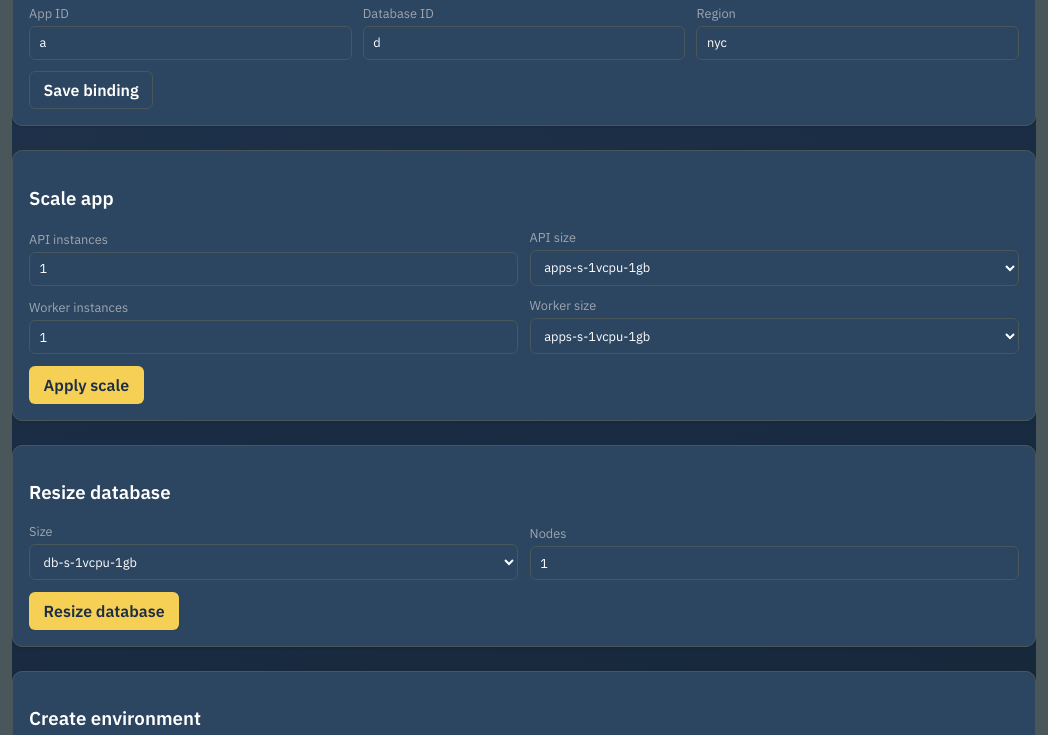
DigitalOceanCloudSection › shows mutation errors from scale
This screenshot has width=1048, height=735.
(page scrolled)
Step 1. Click the button with test id "do-scale-save" → click(86, 385), box [29,366,144,404]
(page scrolled)
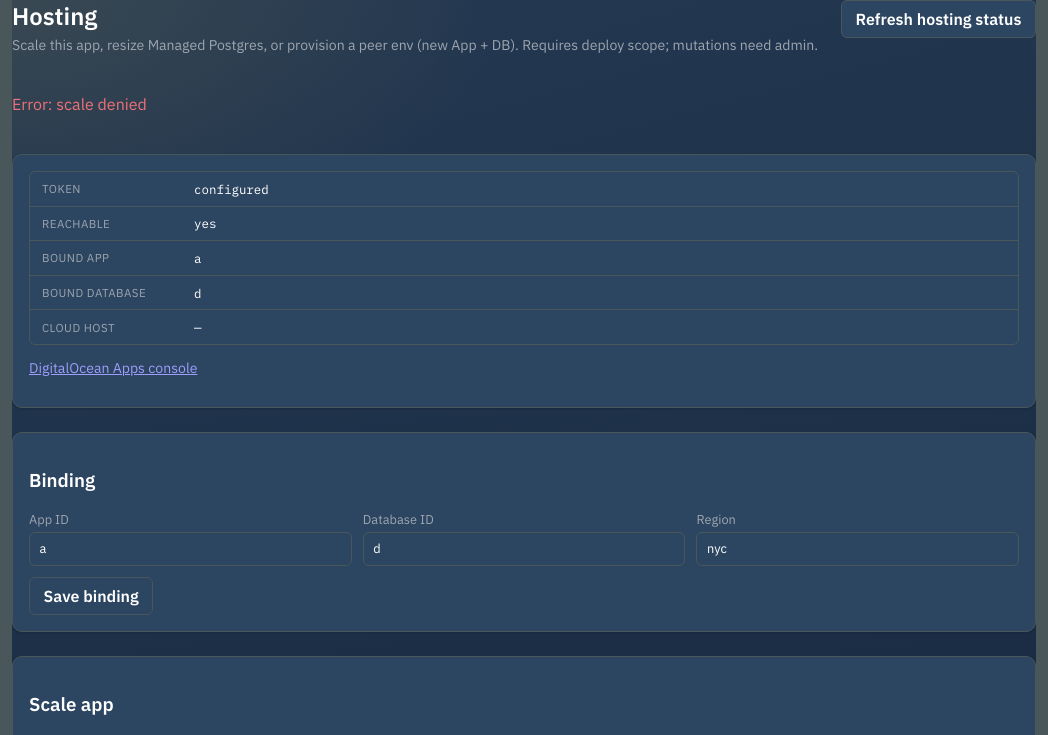
Result: the text "Error: scale denied" is shown at [12,94,147,114]
